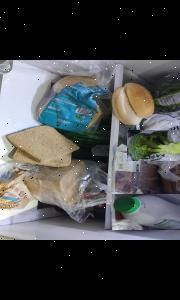Brocoli: (126, 130, 180, 161)
Leche: (111, 194, 180, 230)
